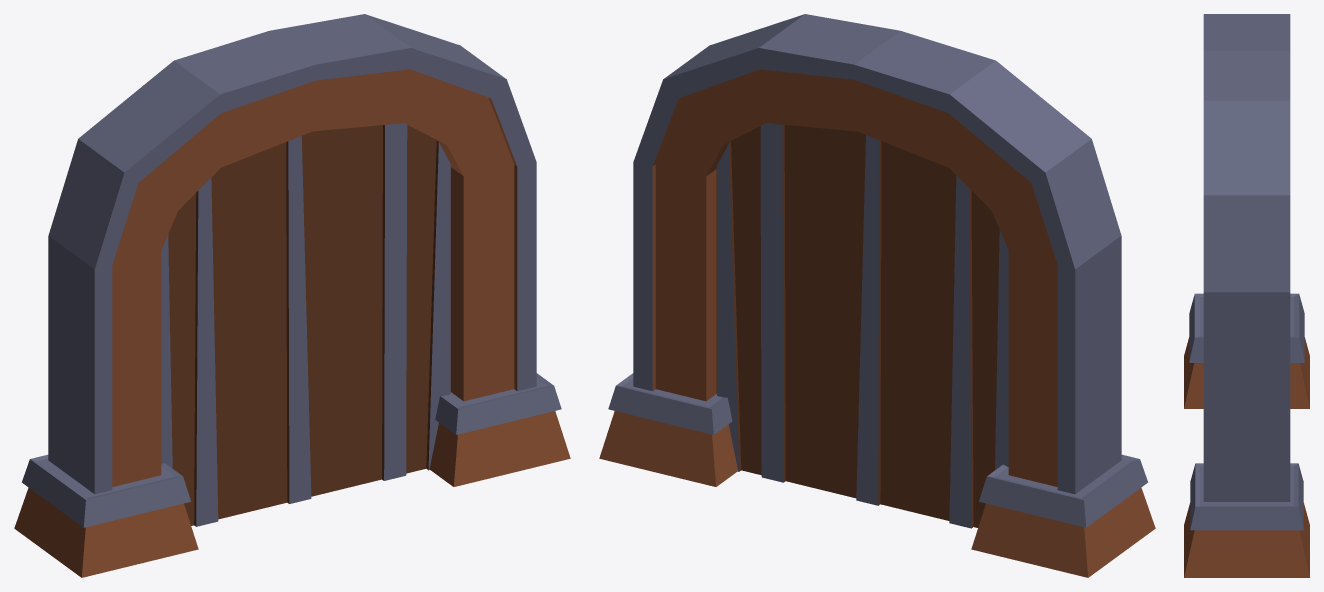
Rendered from Port.fbx.
The picture shows the model from 3 angles, left to right: view 1: azimuth 30°, elevation 25°; view 2: azimuth 150°, elevation 25°; view 3: azimuth 270°, elevation 25°; orthographic projection. The views are drawn at different scales.
Parts seen in each view (by area): view 1: Cube, Cube.001; view 2: Cube, Cube.001; view 3: Cube.
Boxes of the visible parts, <box> form: Cube: <box>14,14,570,577</box>; Cube.001: <box>161,123,450,526</box>; Cube: <box>599,14,1155,577</box>; Cube.001: <box>716,123,1008,528</box>; Cube: <box>1184,14,1309,577</box>.
Bounding box in the file's own units: 457 × 399 × 109.
